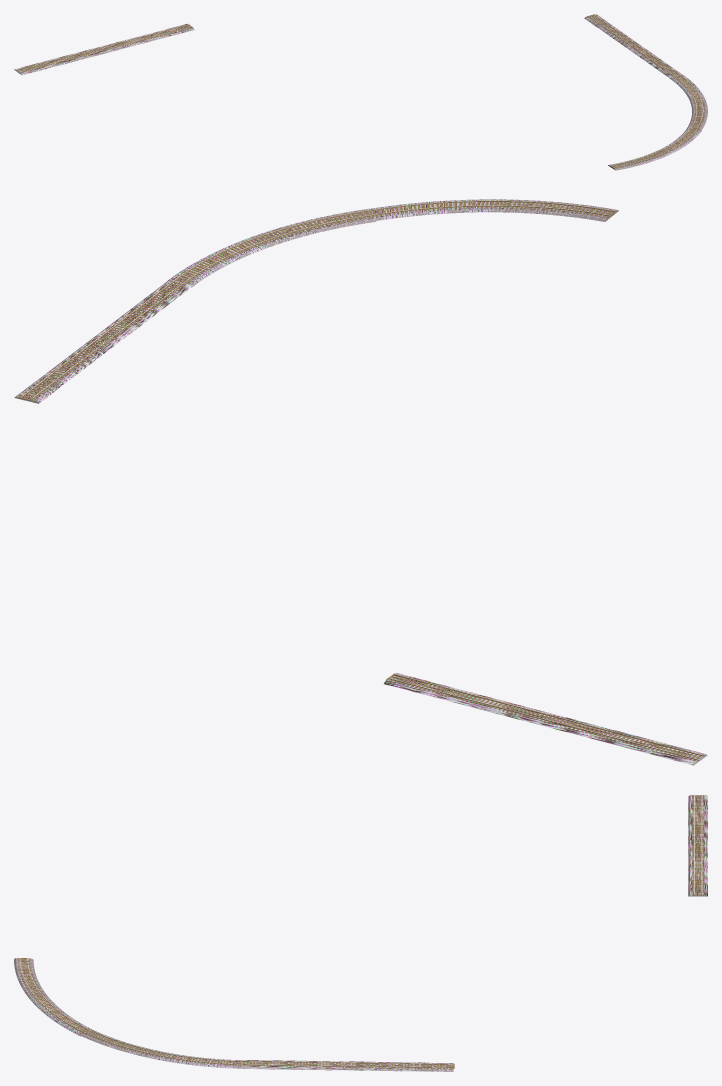
File: GMLID_46150217_194492_1237.gltf
The picture shows the model from 3 angles, top to bottom: view 1: azimuth 30°, elevation 25°; view 2: azimuth 150°, elevation 25°; view 3: azimuth 270°, elevation 25°; orthographic projection. The views are drawn at different scales.
Parts seen in each view (by area): view 1: Z_UP; view 2: Z_UP; view 3: Z_UP.
Part boxes in pixels (x1,y1,x2,y2): Z_UP: (14,14,707,170); Z_UP: (14,199,707,765); Z_UP: (14,794,707,1071).
Bounding box in the file's own units: 185 × 9.91 × 186.
Materials: 5 (1 with a texture image).
